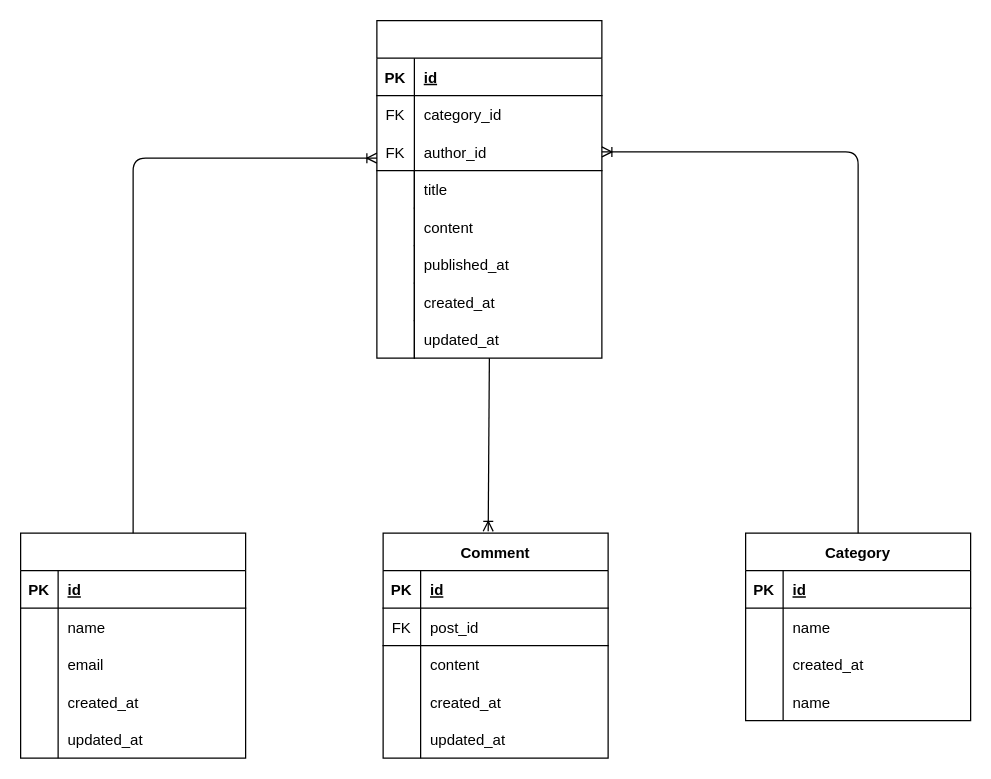
This 991x779 diagram has some shape labels left out. Each missing label, with the box of its shape:
Author: (19, 532, 246, 758)
Post: (376, 19, 602, 358)
